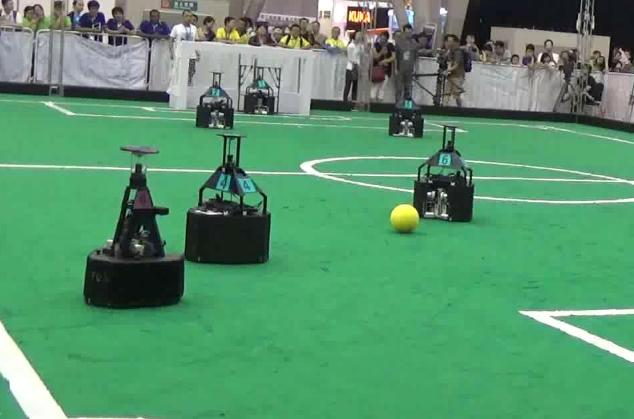robot: (79, 141, 186, 312), (184, 128, 271, 267), (410, 120, 477, 223), (192, 66, 235, 129), (384, 79, 427, 138), (238, 59, 278, 115)
